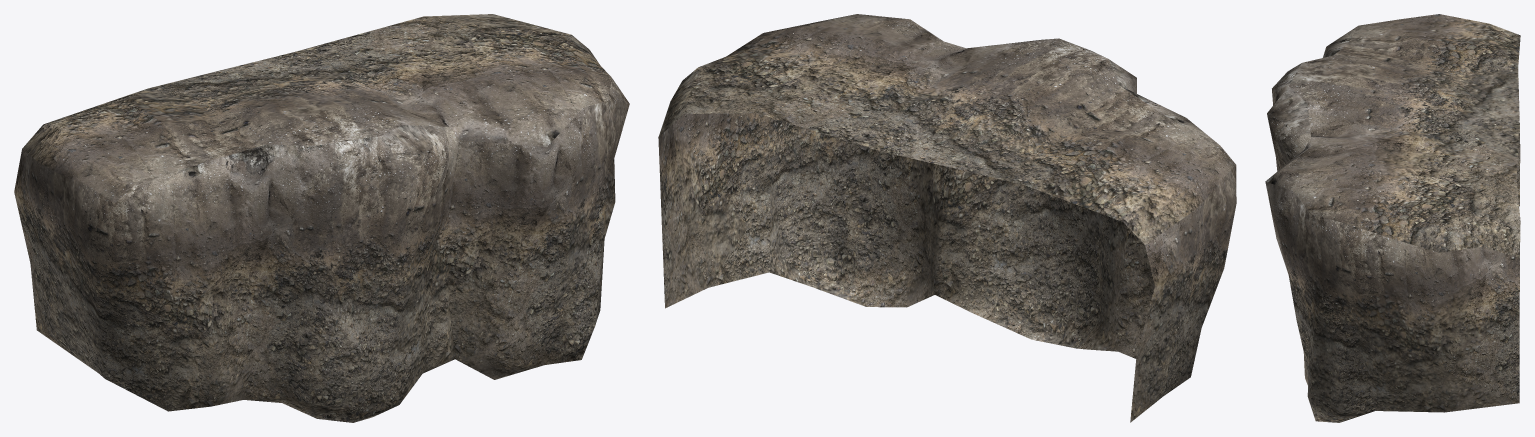
File: Cliff2.fbx
3 renders of one model, left to right at view 1: azimuth 30°, elevation 25°; view 2: azimuth 150°, elevation 25°; view 3: azimuth 270°, elevation 25°, orthographic. The views are drawn at different scales.
Parts seen in each view (by area): view 1: polySurface1; view 2: polySurface1; view 3: polySurface1.
Part boxes in pixels (left/top/right/bottom): polySurface1: left=14, top=14, right=629, bottom=422; polySurface1: left=658, top=14, right=1236, bottom=422; polySurface1: left=1265, top=14, right=1520, bottom=422.
Bounding box in the file's own units: 8.81 × 4.67 × 4.23.
